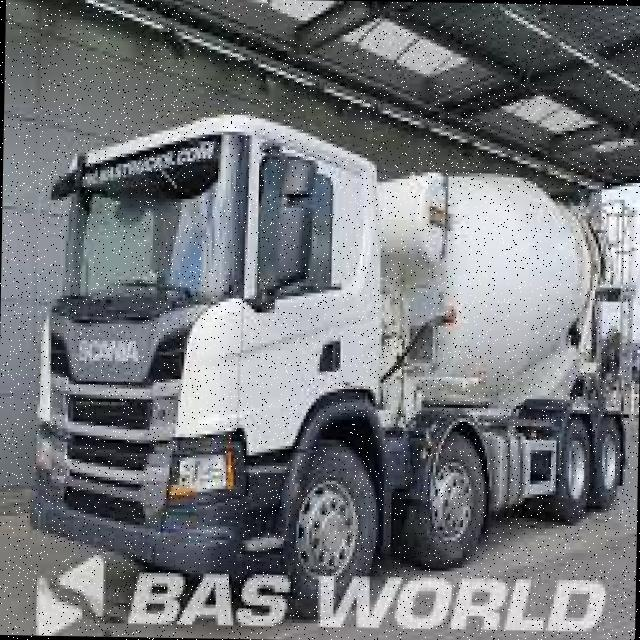Mixer Truck: (27, 104, 640, 628)
